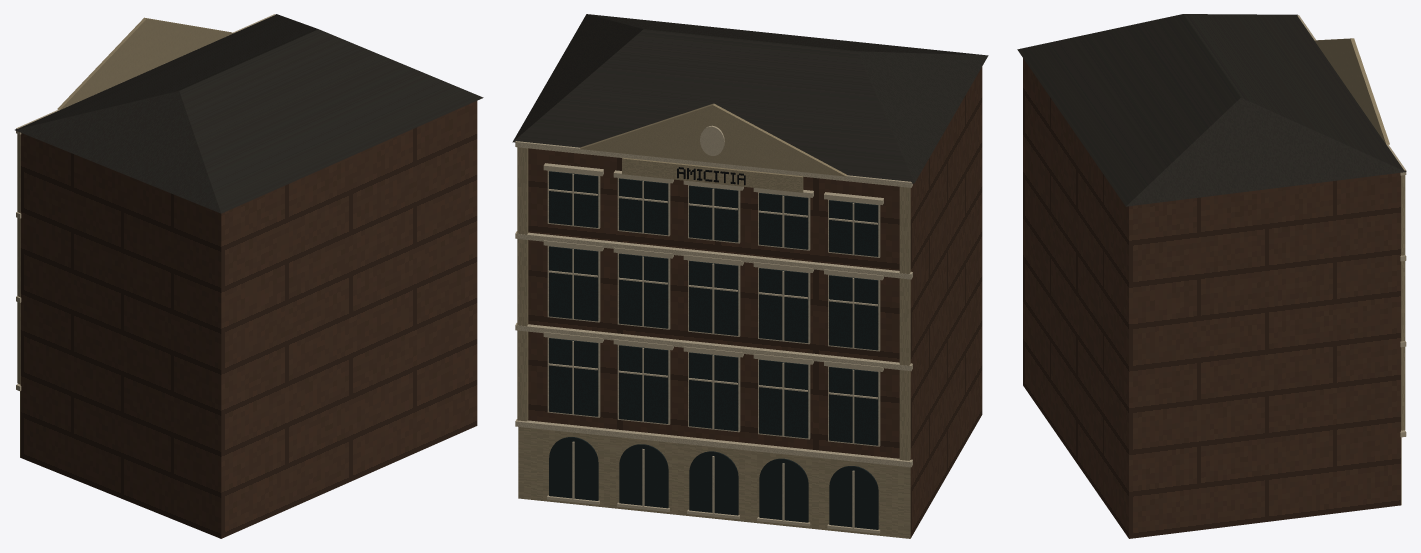
The picture shows the model from 3 angles, left to right: view 1: azimuth 30°, elevation 25°; view 2: azimuth 150°, elevation 25°; view 3: azimuth 270°, elevation 25°; orthographic projection. The views are drawn at different scales.
Visible parts, largest first — view 1: amicitia-zuidblaak-0, amicitia-zuidblaak-1, amicitia-zuidblaak-2; view 2: amicitia-zuidblaak-0, amicitia-zuidblaak-4, amicitia-zuidblaak-1, amicitia-zuidblaak-2, amicitia-zuidblaak-3; view 3: amicitia-zuidblaak-0, amicitia-zuidblaak-1, amicitia-zuidblaak-2.
Part boxes in pixels (box(x1,y1,x2,y2)): amicitia-zuidblaak-0: box(20, 101, 477, 538); amicitia-zuidblaak-1: box(15, 14, 483, 213); amicitia-zuidblaak-2: box(17, 17, 233, 457); amicitia-zuidblaak-0: box(528, 67, 982, 537); amicitia-zuidblaak-4: box(549, 171, 878, 529); amicitia-zuidblaak-1: box(512, 14, 988, 183); amicitia-zuidblaak-2: box(517, 103, 910, 538); amicitia-zuidblaak-3: box(515, 125, 912, 533); amicitia-zuidblaak-0: box(1023, 58, 1400, 538); amicitia-zuidblaak-1: box(1017, 14, 1406, 206); amicitia-zuidblaak-2: box(1315, 38, 1405, 505).
Bounding box in the file's own units: 23.98 × 22.7 × 20.57.
Materials: 6 (6 with a texture image).
